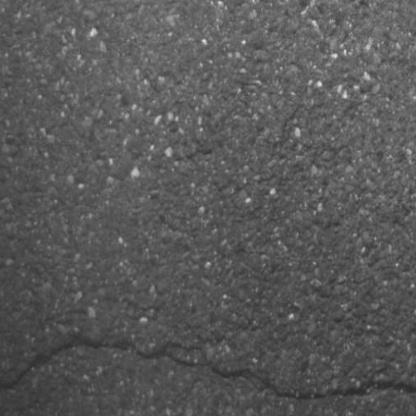Cracks: (0, 342, 416, 409)
